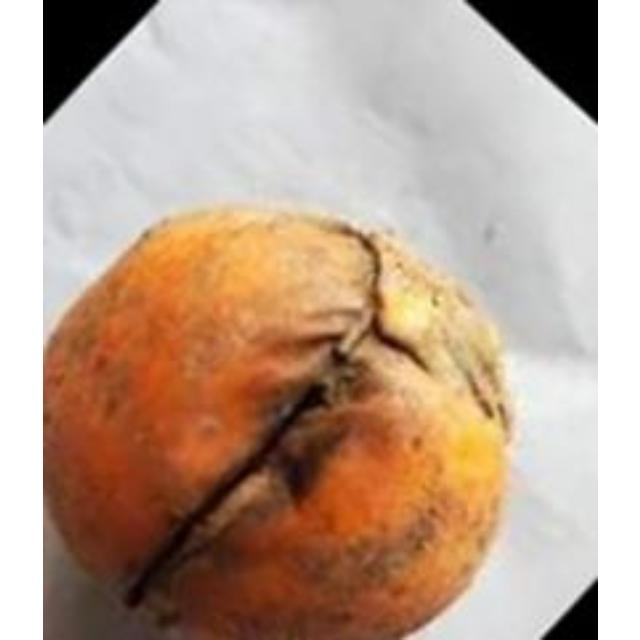damaged: (42, 202, 517, 637)
